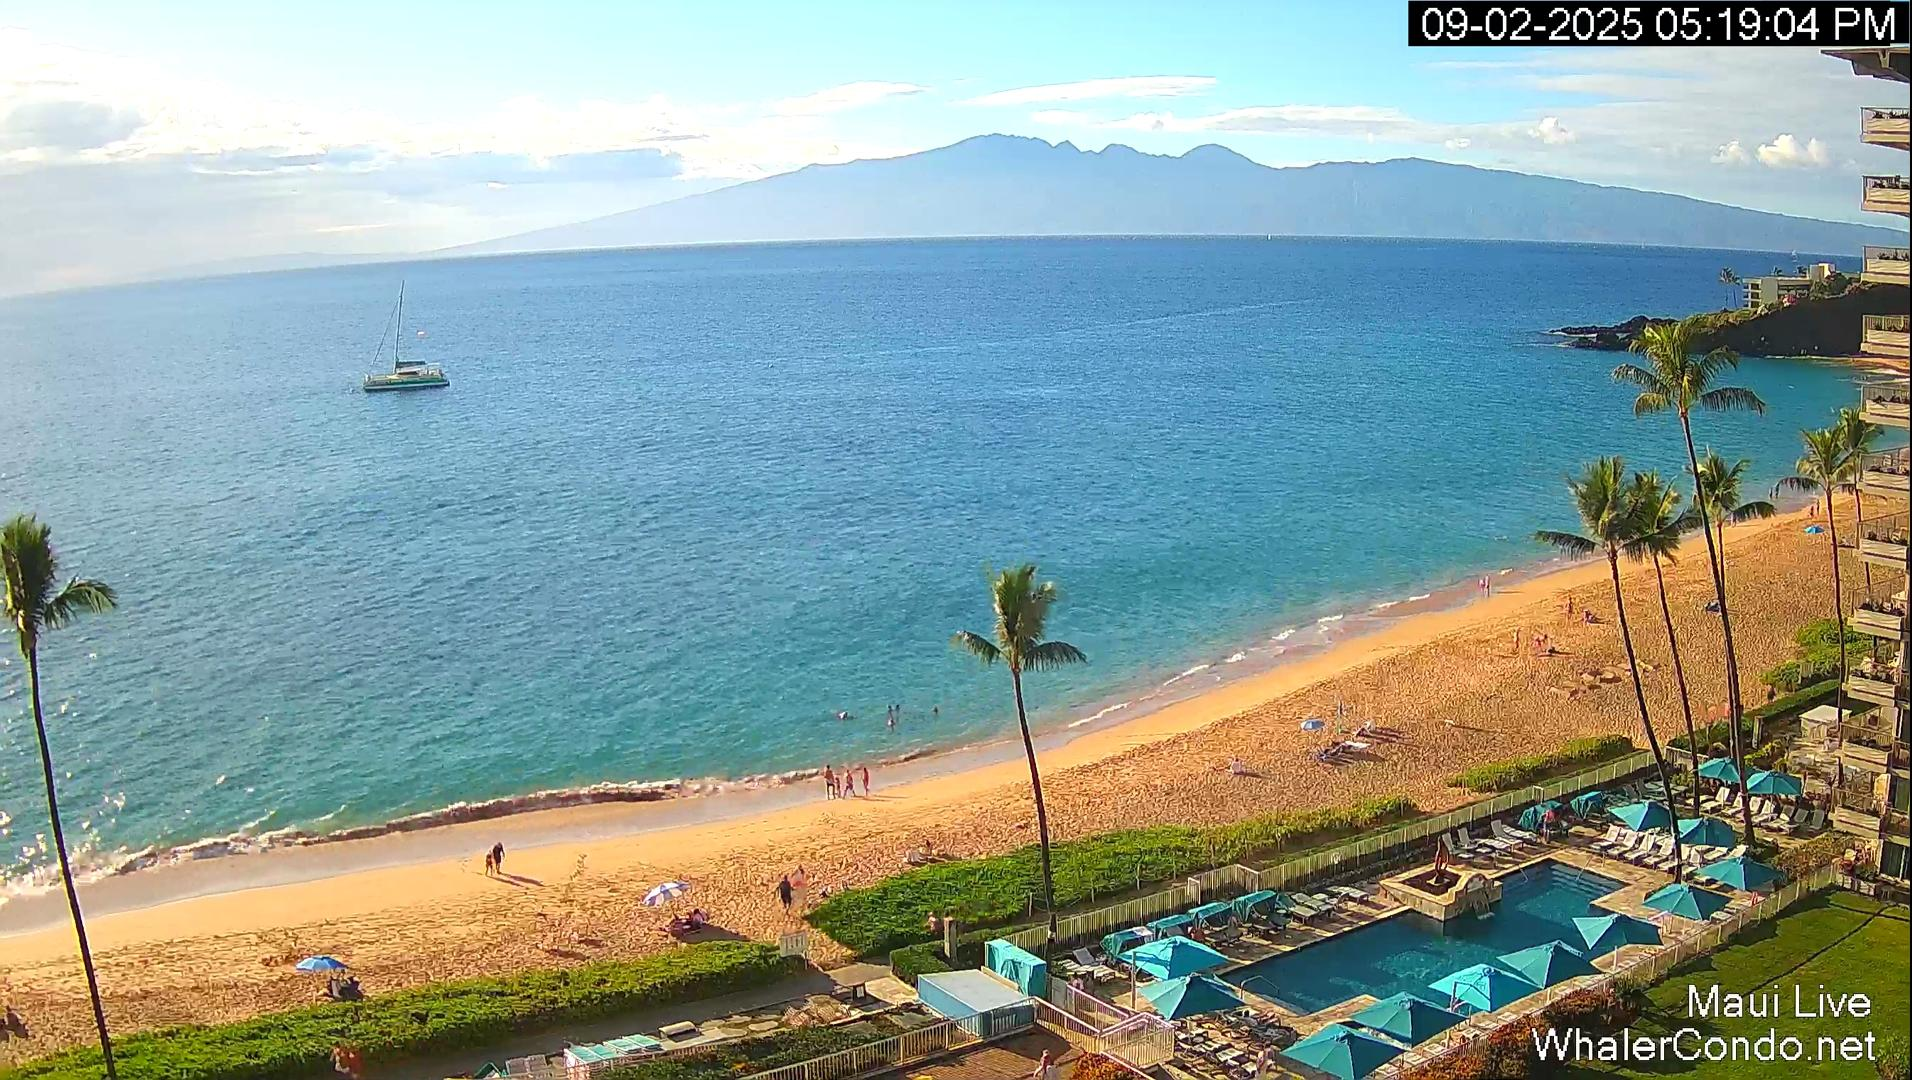boat: (362, 280, 450, 392), (887, 705, 893, 712)
person: (778, 875, 794, 917), (1034, 1048, 1052, 1080), (683, 908, 706, 931), (925, 911, 942, 941), (824, 764, 837, 801), (492, 842, 506, 874), (348, 1047, 362, 1078), (330, 1040, 343, 1073), (842, 769, 856, 799), (790, 864, 806, 888), (829, 769, 841, 800), (340, 1044, 350, 1077), (484, 852, 494, 877), (862, 767, 870, 797), (834, 776, 842, 799), (1231, 756, 1241, 774), (1484, 574, 1492, 596), (920, 840, 930, 854), (894, 704, 900, 725), (1479, 578, 1486, 595), (838, 711, 848, 720), (1808, 504, 1814, 519), (886, 720, 895, 730), (932, 705, 940, 715)
